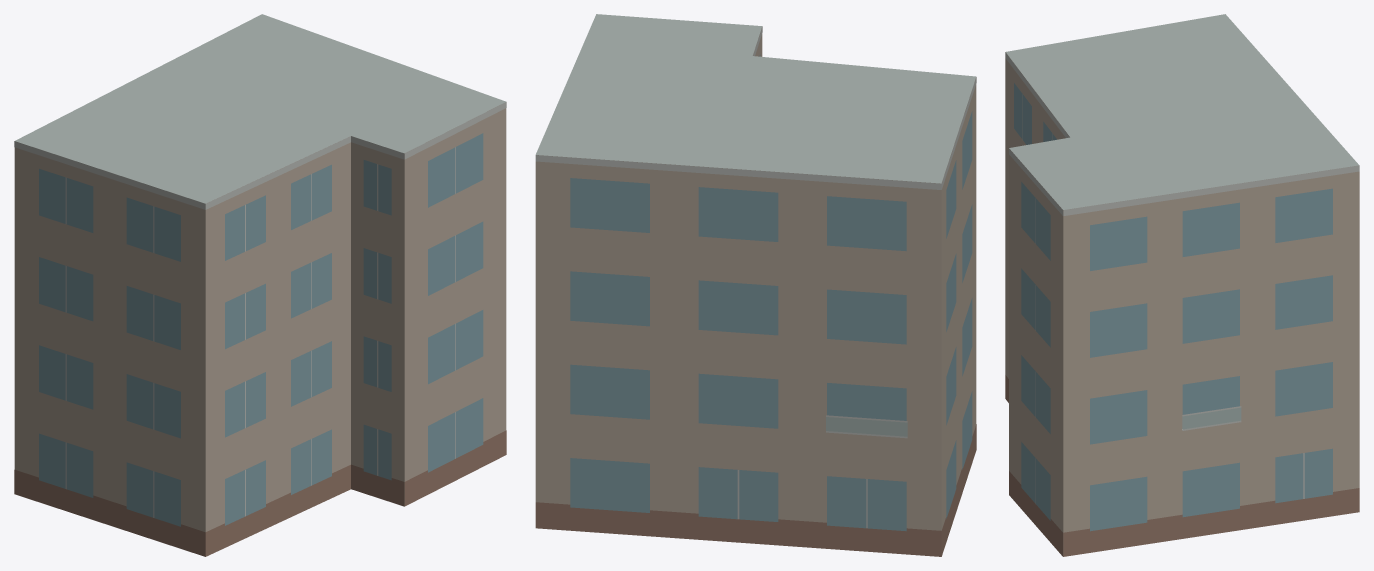
File: survey-upis-32856628.glb
The picture shows the model from 3 angles, left to right: view 1: azimuth 30°, elevation 25°; view 2: azimuth 150°, elevation 25°; view 3: azimuth 270°, elevation 25°; orthographic projection. The views are drawn at different scales.
Parts seen in each view (by area): view 1: survey-upis-32856628.tmp; view 2: survey-upis-32856628.tmp; view 3: survey-upis-32856628.tmp.
Part boxes in pixels (box(x1,y1,x2,y2)): survey-upis-32856628.tmp: box(14, 14, 506, 556); survey-upis-32856628.tmp: box(535, 14, 976, 556); survey-upis-32856628.tmp: box(1005, 14, 1359, 556).
Bounding box in the file's own units: 16.75 × 13.8 × 12.78.
